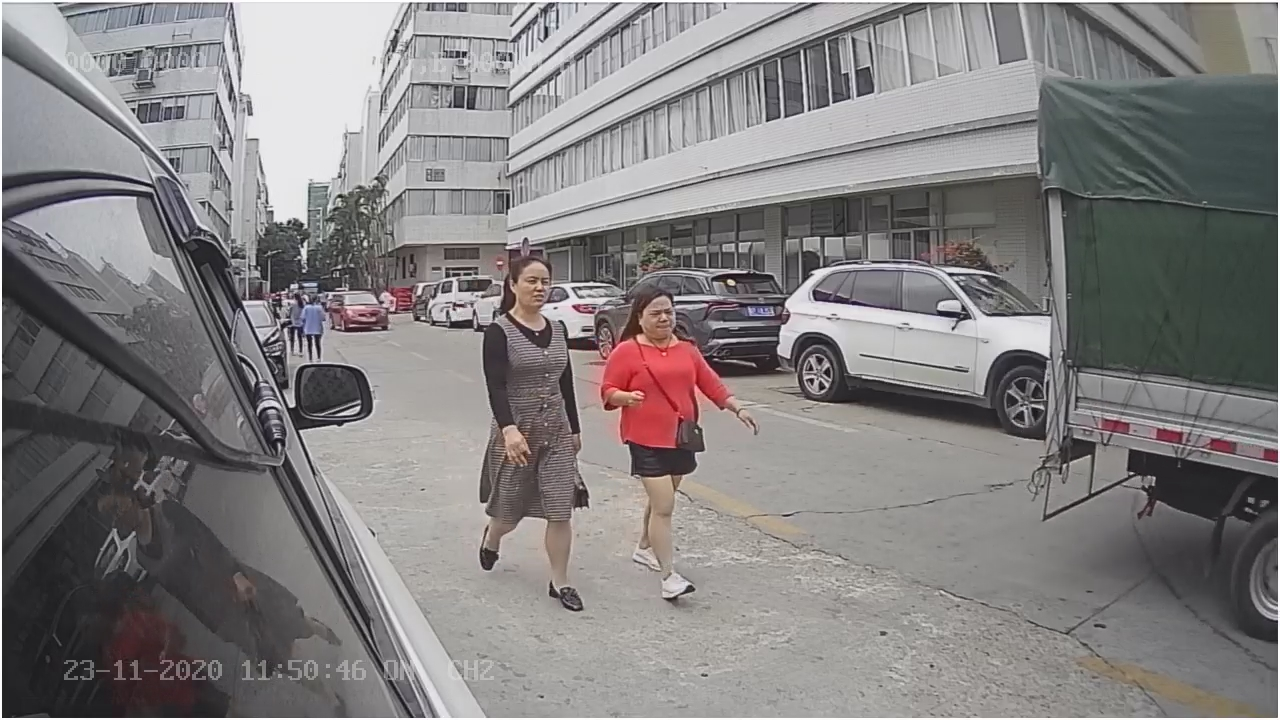person: (602, 277, 759, 601), (480, 254, 591, 612)
